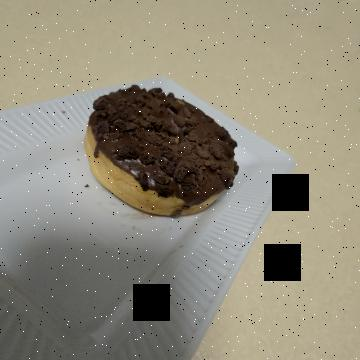doughnut: (76, 117, 235, 304)
